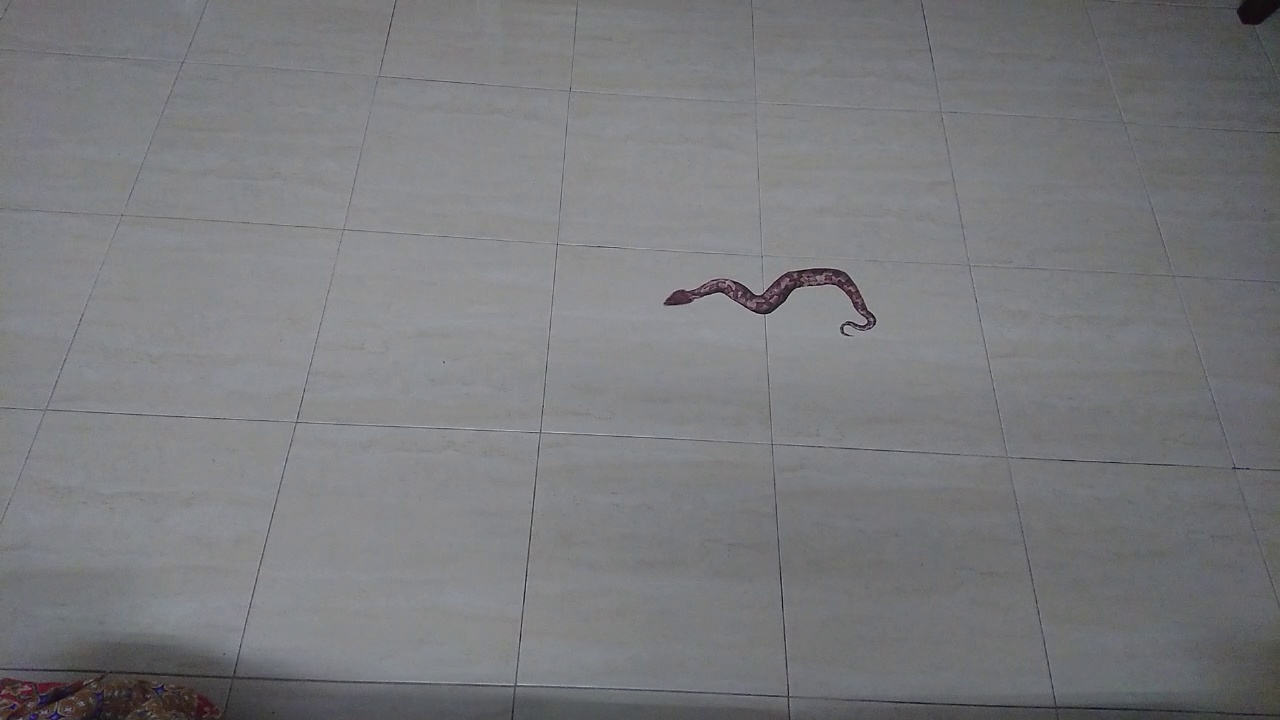snake: (638, 257, 889, 344)
